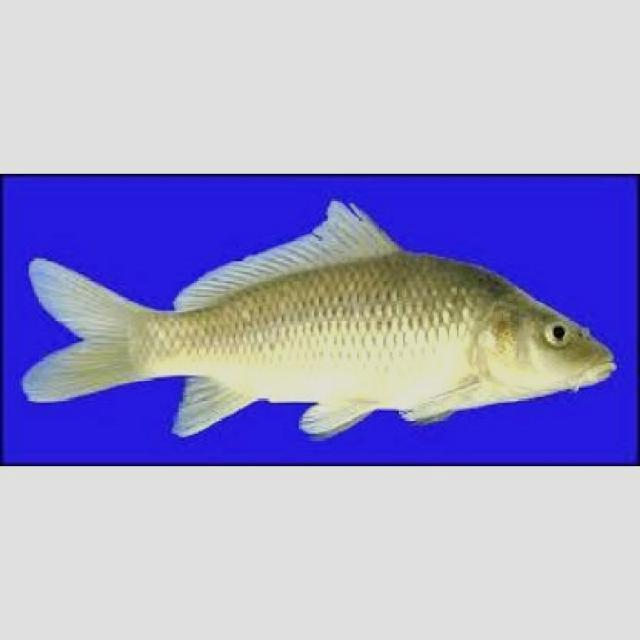ikan-mas: (18, 202, 616, 438)
